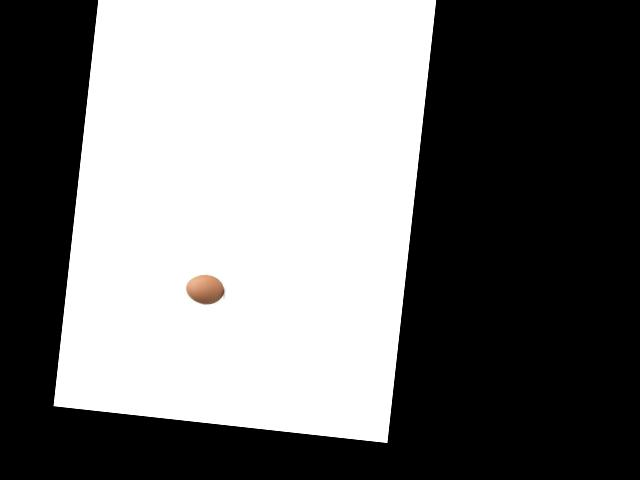egg: (185, 273, 225, 306)
